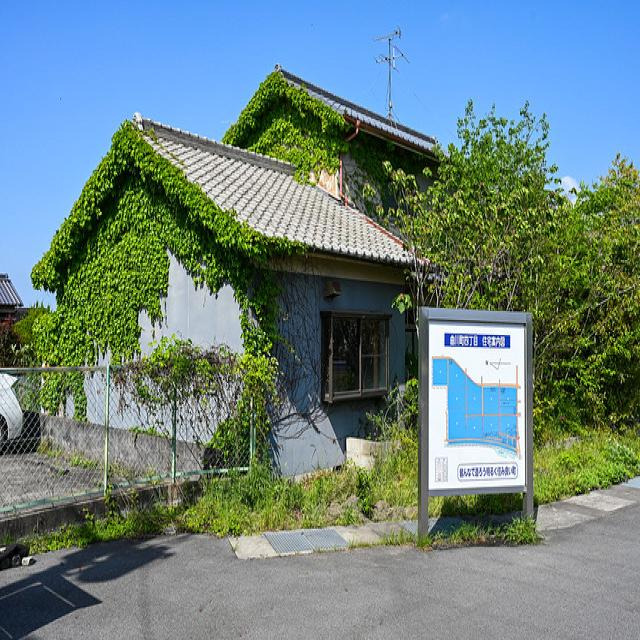building: (28, 66, 446, 503)
